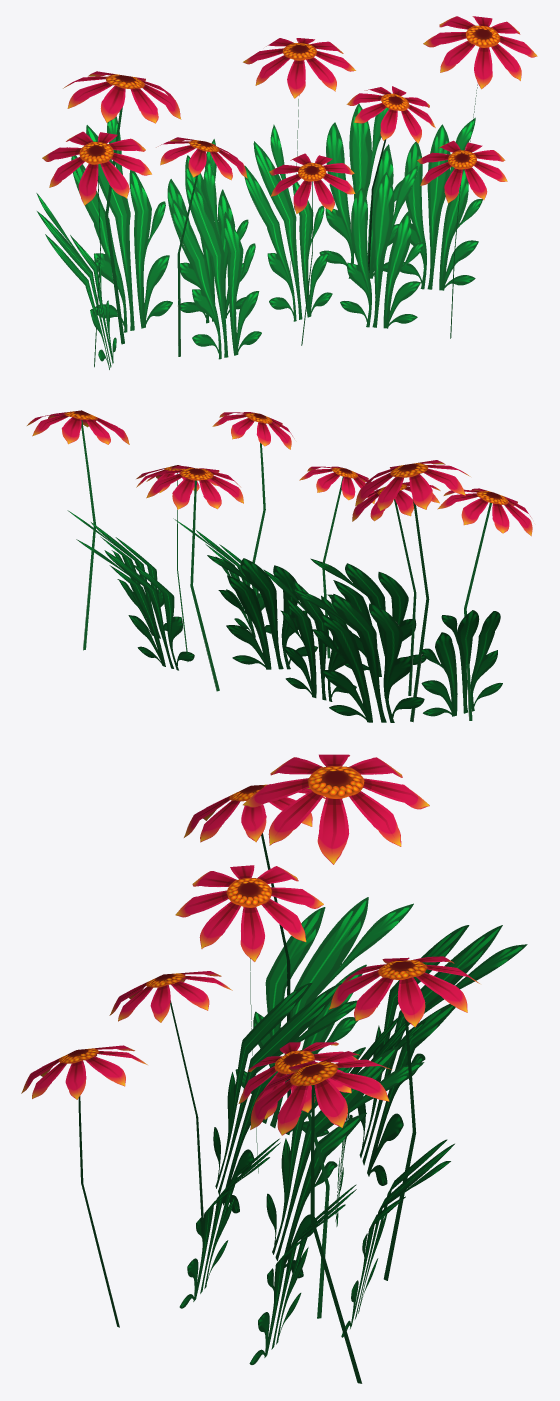
The model's file is Flower_03c.FBX.
3 views of the same model, one above another, from view 1: azimuth 30°, elevation 25°; view 2: azimuth 150°, elevation 25°; view 3: azimuth 270°, elevation 25° (orthographic). The views are drawn at different scales.
Parts seen in each view (by area): view 1: Flower_03c; view 2: Flower_03c; view 3: Flower_03c.
Part boxes in pixels (x1,y1,x2,y2): Flower_03c: [36, 16, 537, 369]; Flower_03c: [27, 410, 532, 722]; Flower_03c: [21, 754, 527, 1383].
Bounding box in the file's own units: 51.52 × 26.16 × 32.51.
Materials: 1 (1 with a texture image).
